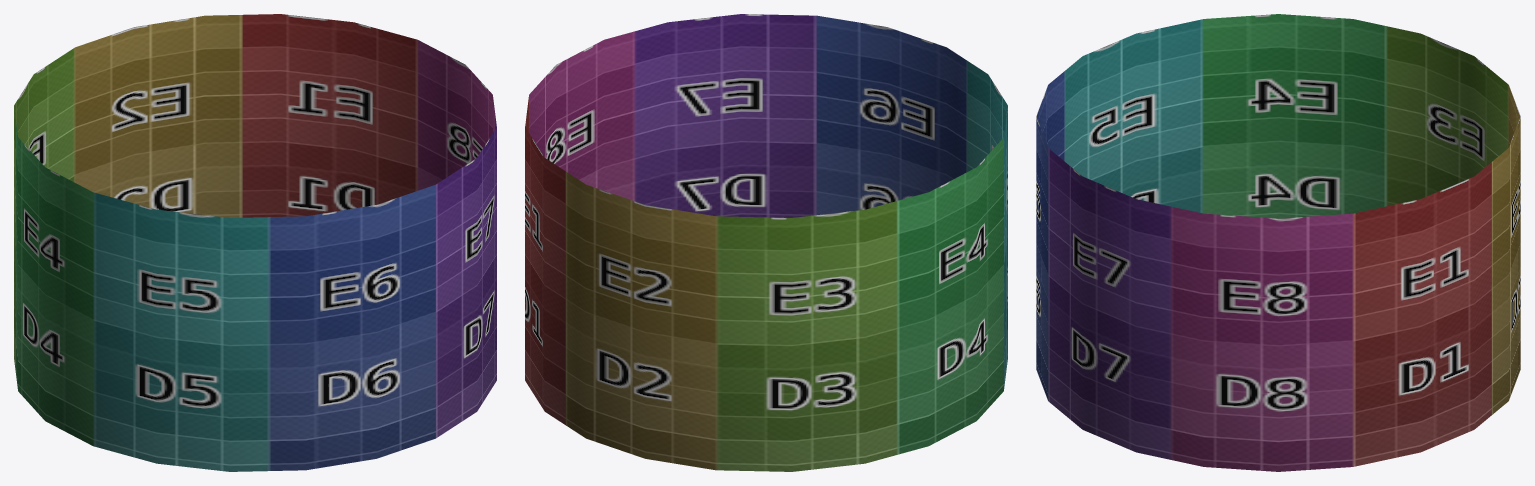
The model's file is tex_test_20x1.fbx.
3 views of the same model, side by side, from view 1: azimuth 30°, elevation 25°; view 2: azimuth 150°, elevation 25°; view 3: azimuth 270°, elevation 25° (orthographic).
Parts seen in each view (by area): view 1: pSphere1; view 2: pSphere1; view 3: pSphere1.
Boxes of the visible parts, <box> form: pSphere1: <box>14,14,496,471</box>; pSphere1: <box>525,14,1007,471</box>; pSphere1: <box>1036,14,1520,471</box>.
Bounding box in the file's own units: 1.73 × 1 × 1.73.
